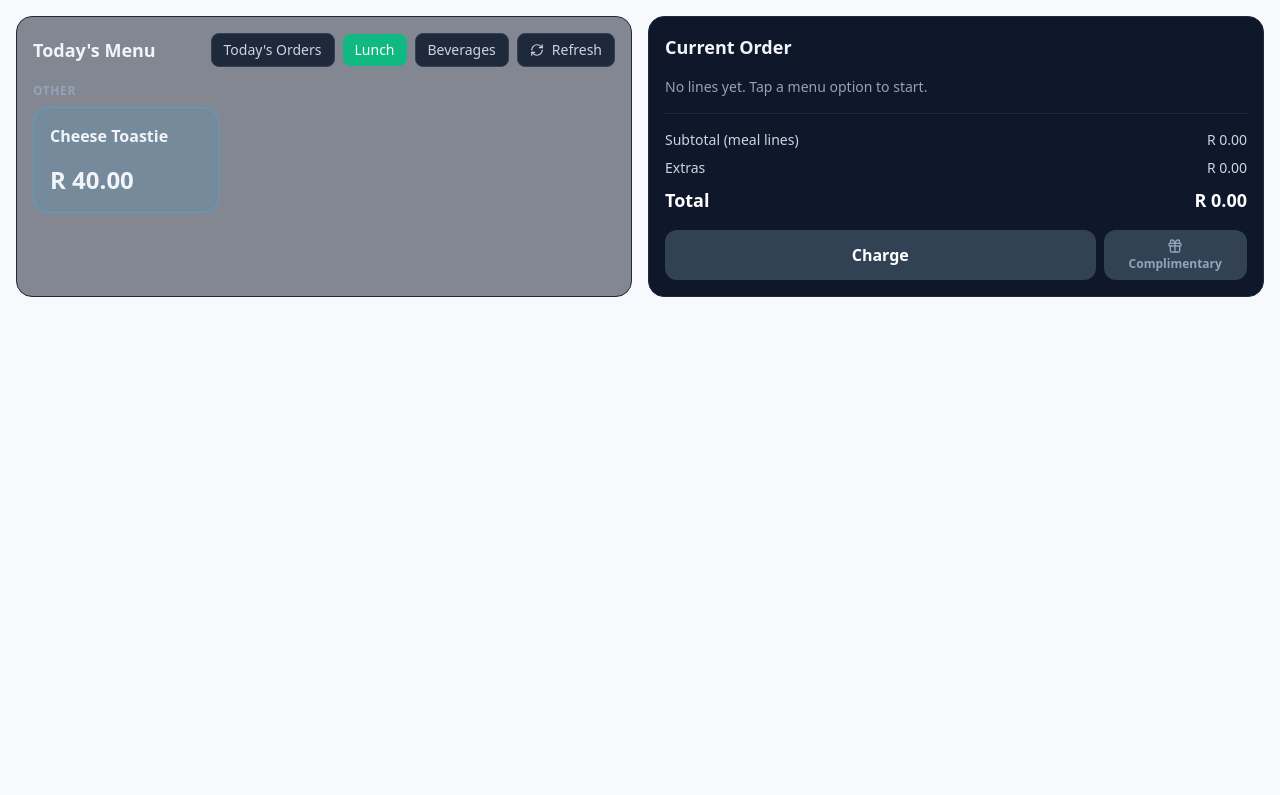
Test case: Confirm while offline › waits for the connection and keeps the cart
Later steps or results of the test are not shown.
Click the text "Cheese Toastie" at (109, 136), box [50,125,168,147]
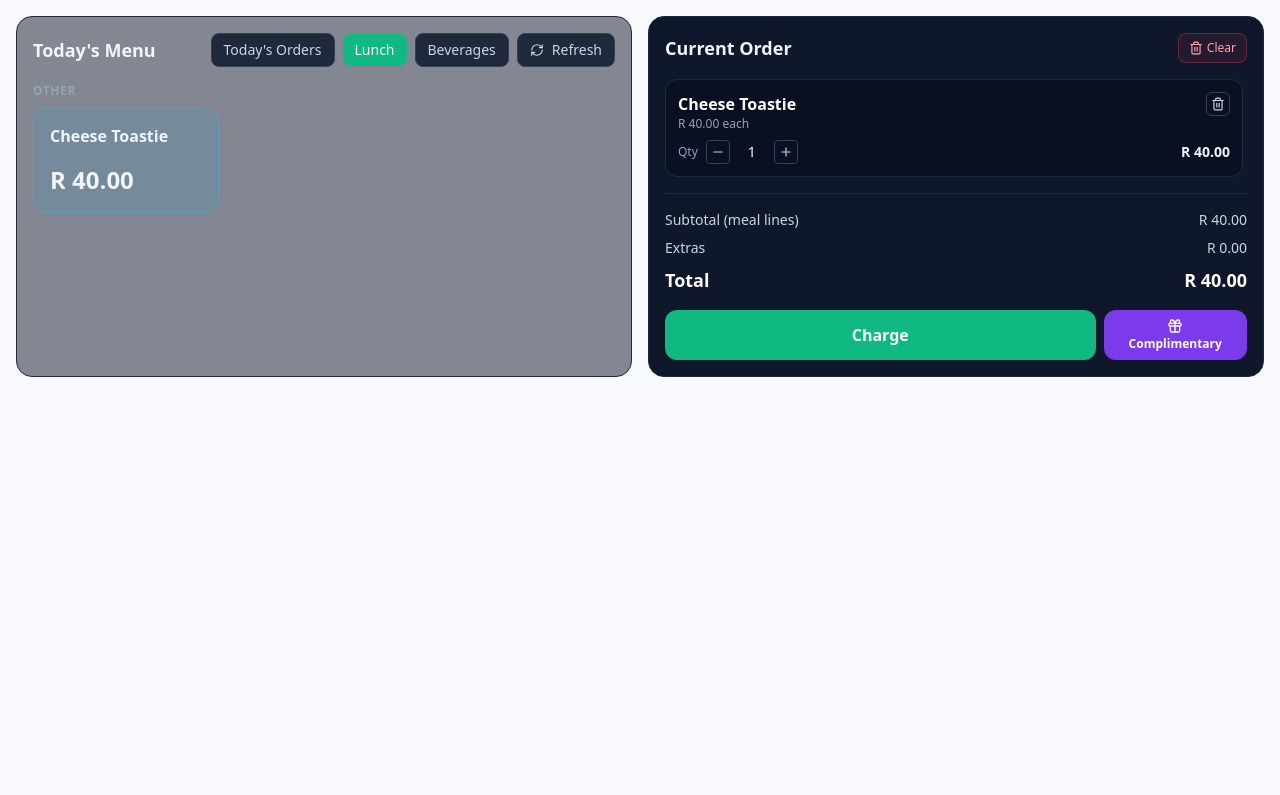
Click the button "Charge" at (880, 335), box [665,310,1096,360]
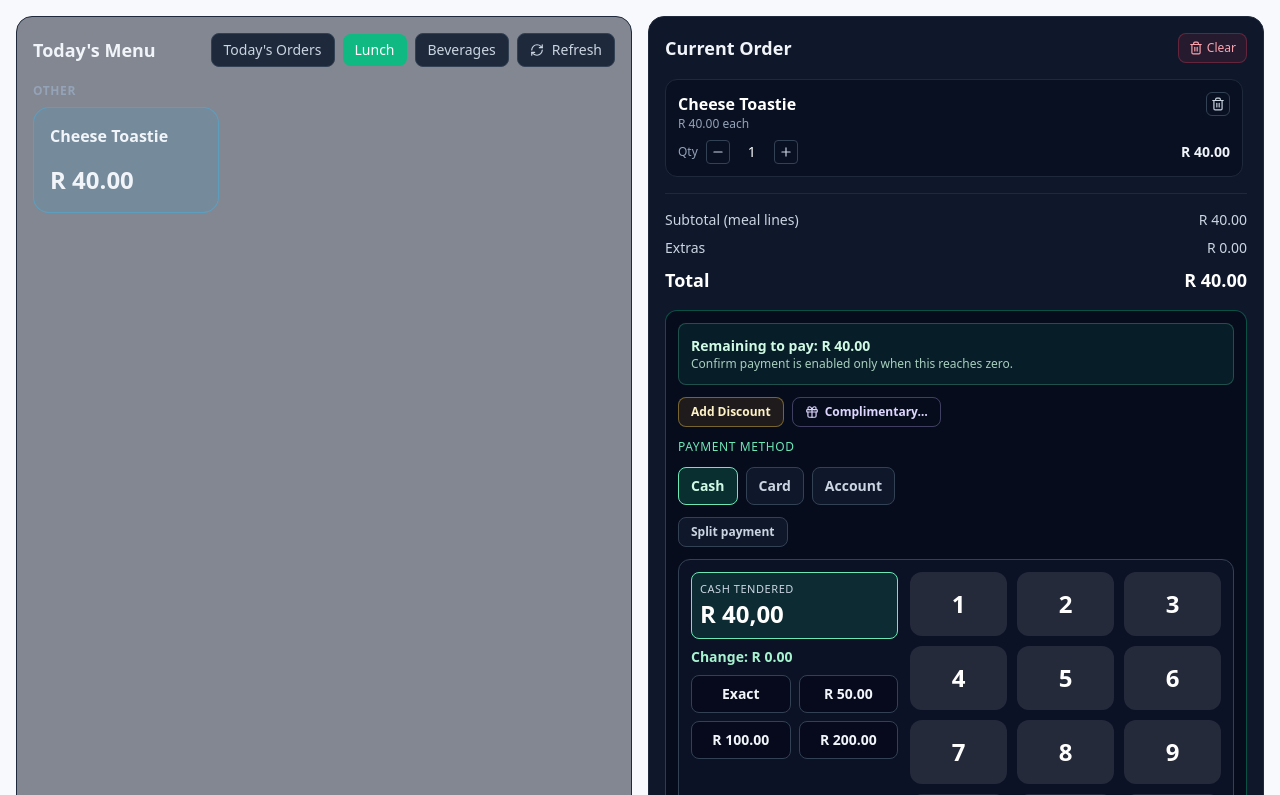
Click the button "Card" at (775, 486), box [746,467,804,505]
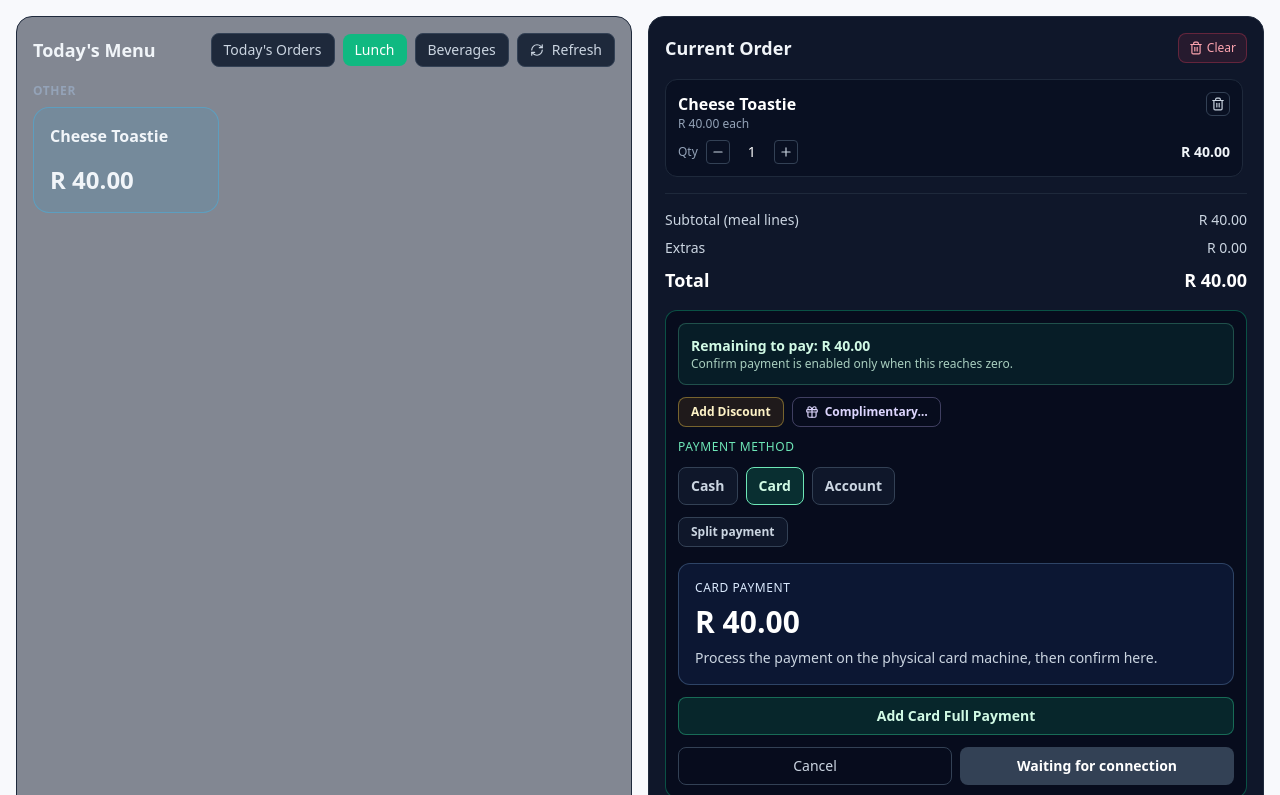
Expected: the button "Waiting for connection" is disabled
Click the button "Waiting for connection" at (1097, 766), box [960,747,1234,785]
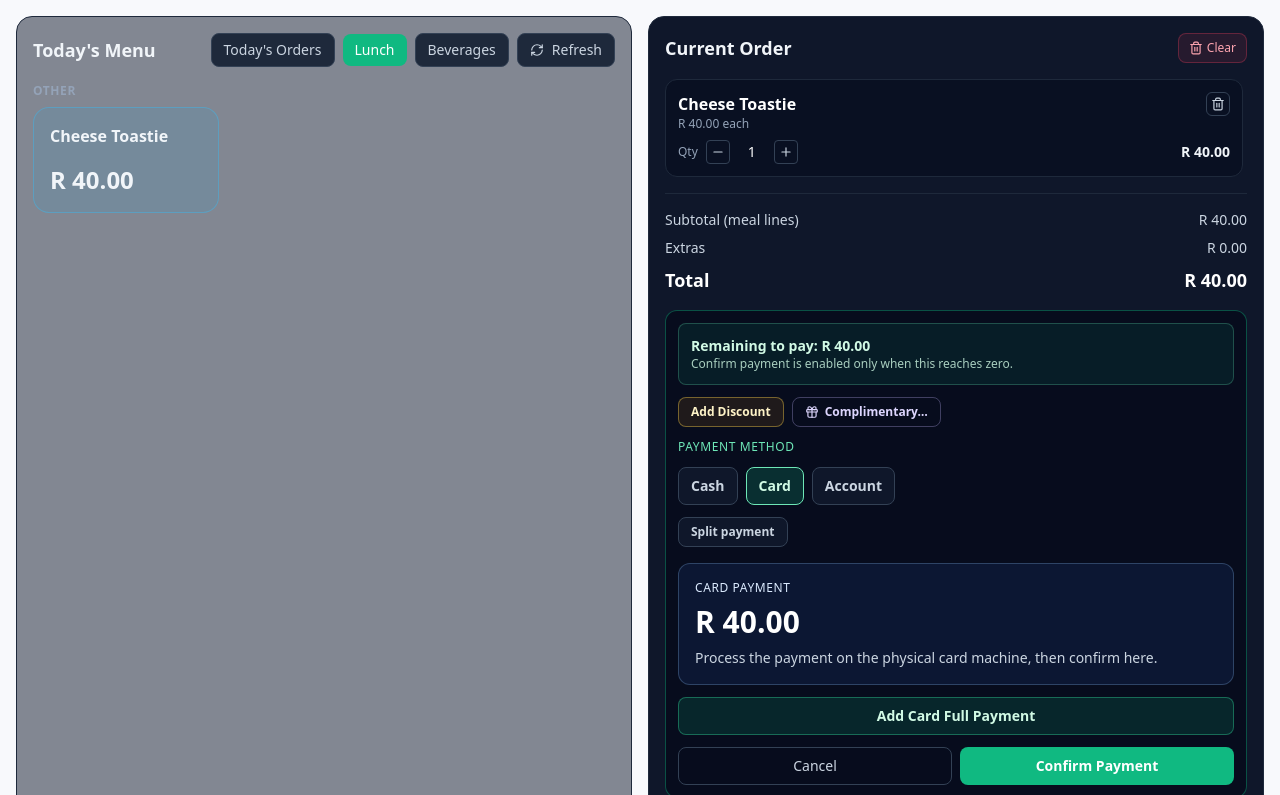
Expected: the button "Confirm Payment" is enabled, [960,747,1234,785]
